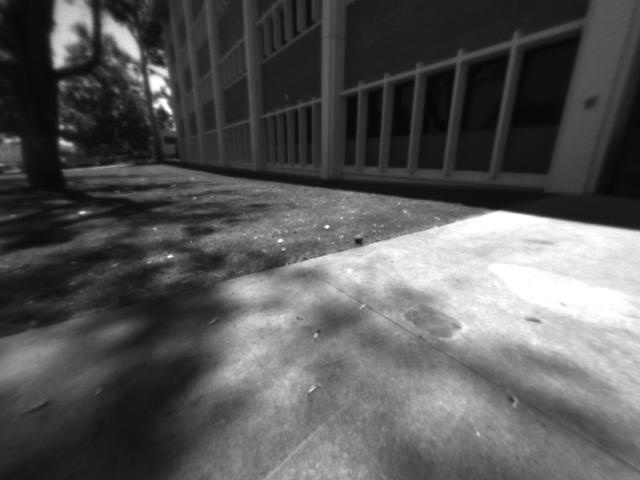dogtoy: (349, 226, 370, 247)
